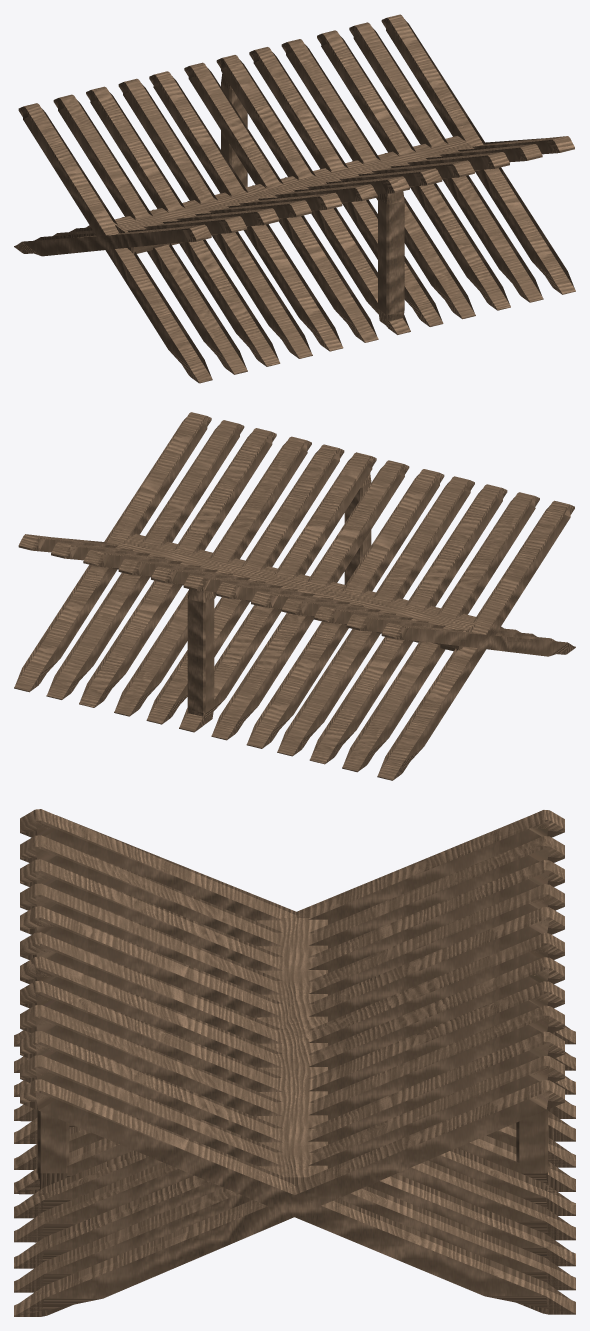
File: WOODEN DISH RACK.glb
3 views of the same model, one above another, from view 1: azimuth 30°, elevation 25°; view 2: azimuth 150°, elevation 25°; view 3: azimuth 270°, elevation 25° (orthographic). The views are drawn at different scales.
Visible parts, largest first — view 1: WOODEN DISH RACK; view 2: WOODEN DISH RACK; view 3: WOODEN DISH RACK.
Boxes of the visible parts, <box> form: WOODEN DISH RACK: <box>14,14,575,383</box>; WOODEN DISH RACK: <box>14,412,575,780</box>; WOODEN DISH RACK: <box>14,809,575,1316</box>.
Bounding box in the file's own units: 0.6351 × 0.2366 × 0.5308.
Materials: 1 (1 with a texture image).
